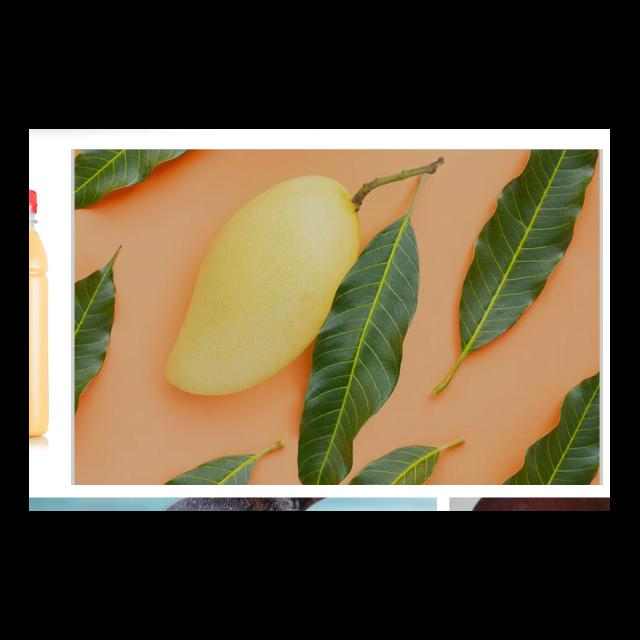mango: (163, 173, 357, 395)
